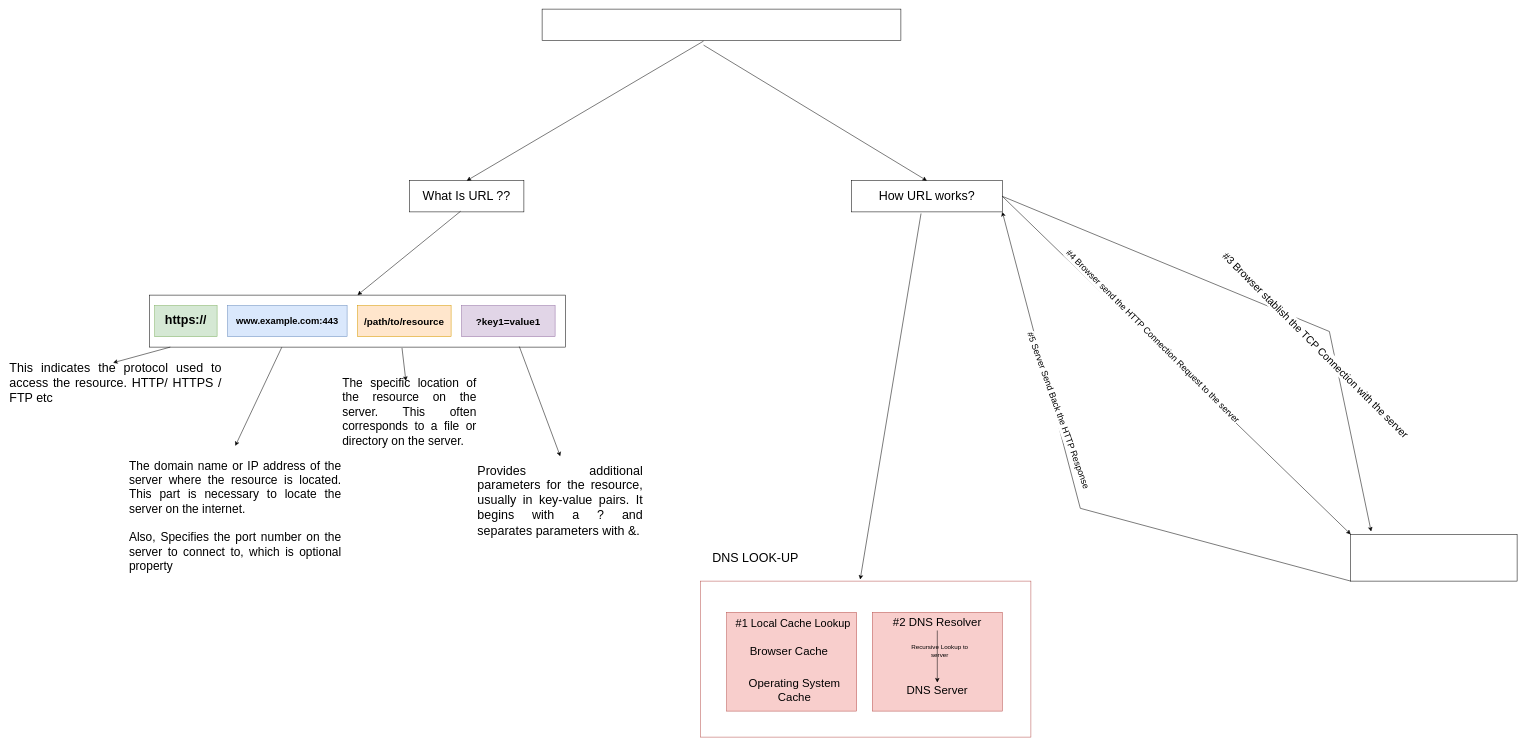
The diagram is 1526 pixels wide and 746 high, and some of its shapes have lost their labels. The centre of each missing label's shape, as x and y in pixels:
"Web Server" belongs at [1433,557].
"What happens when you Enter a URL in the browser & Hit enter??" belongs at [721,24].
